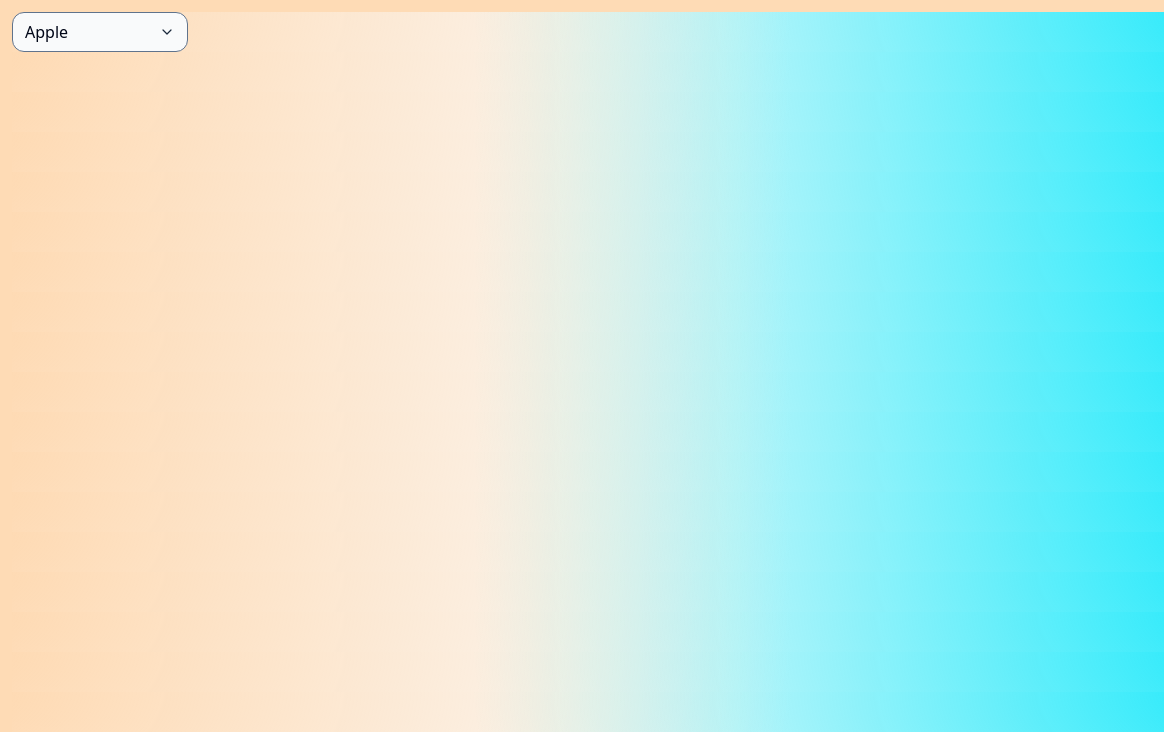
Test: Tier-1 styling contract › keeps select trigger/content/item hooks and state attributes
Click the dropdown named "Contract select".
click(100, 32)  # box x1=12 y1=12 x2=188 y2=52
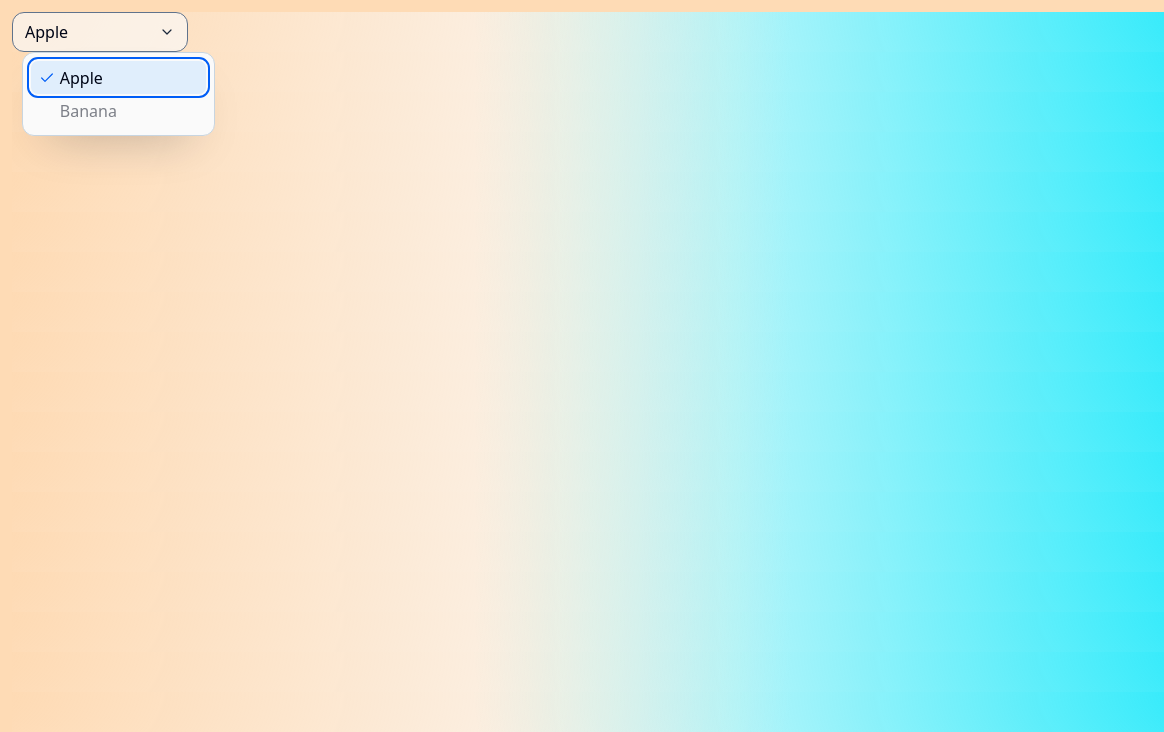
Expected: the dropdown named "Contract select" has attribute data-state="open", x1=12 y1=12 x2=188 y2=52
